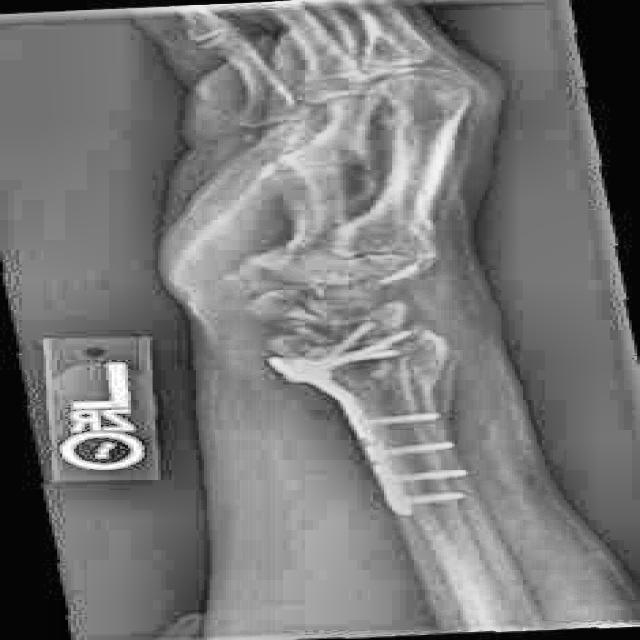wrist positive: (245, 308, 464, 402)
